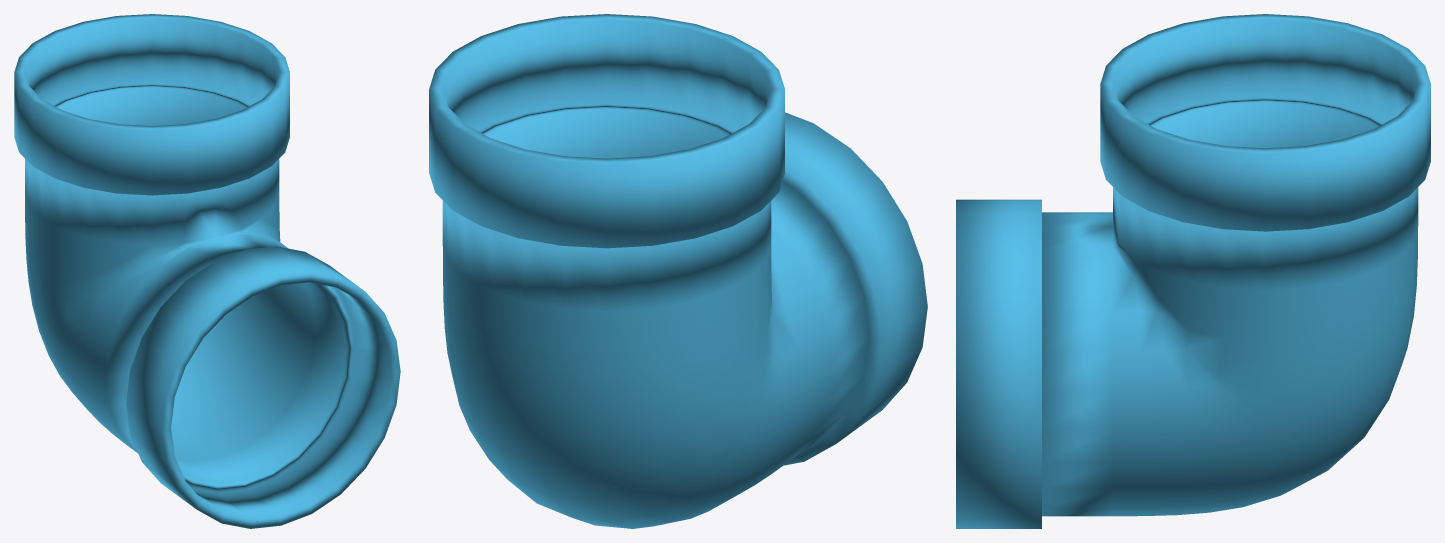
Rendered from Env_Pipe_Cnr.fbx.
3 views of the same model, side by side, from view 1: azimuth 30°, elevation 25°; view 2: azimuth 150°, elevation 25°; view 3: azimuth 270°, elevation 25° (orthographic). The views are drawn at different scales.
Visible parts, largest first — view 1: Pipe_Cnr; view 2: Pipe_Cnr; view 3: Pipe_Cnr.
Part boxes in pixels (x1=…): Pipe_Cnr: x1=14, y1=14, x2=400, y2=528; Pipe_Cnr: x1=429, y1=14, x2=927, y2=528; Pipe_Cnr: x1=956, y1=14, x2=1430, y2=528.
Bounding box in the file's own units: 9.61 × 13.8 × 13.81.
